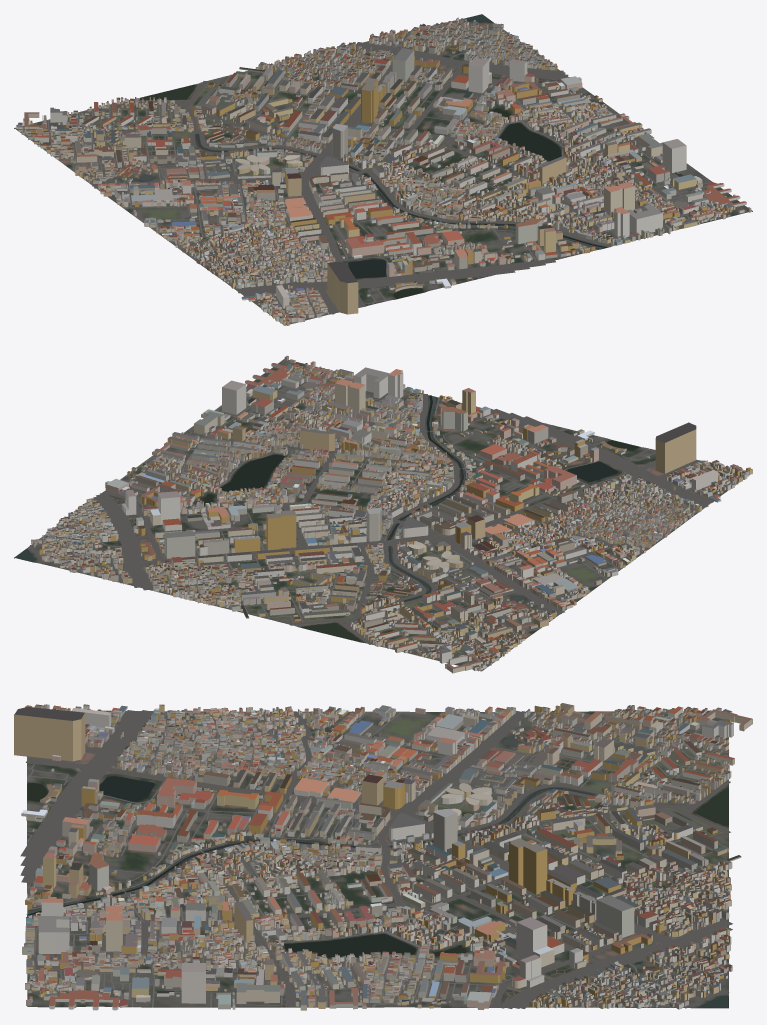
3 views of the same model, one above another, from view 1: azimuth 30°, elevation 25°; view 2: azimuth 150°, elevation 25°; view 3: azimuth 270°, elevation 25° (orthographic). The views are drawn at different scales.
Parts seen in each view (by area): view 1: walls, roofs, ground, roads, water; view 2: walls, roofs, ground, roads, water; view 3: walls, roofs, ground, roads, water.
Boxes of the visible parts, box(x1,y1,x2,y2) form: walls: box(16, 18, 751, 325); roofs: box(16, 17, 750, 321); ground: box(14, 16, 752, 325); roads: box(22, 20, 728, 323); water: box(134, 14, 606, 298); walls: box(31, 356, 752, 673); roofs: box(31, 355, 752, 668); ground: box(14, 359, 750, 671); roads: box(30, 365, 749, 669); water: box(15, 395, 639, 642); walls: box(14, 704, 752, 1010); roofs: box(14, 703, 751, 1007); ground: box(27, 710, 728, 1008); roads: box(20, 710, 732, 1008); water: box(26, 728, 728, 1007).
Bounding box in the file's own units: 1430 × 97.74 × 1476.
